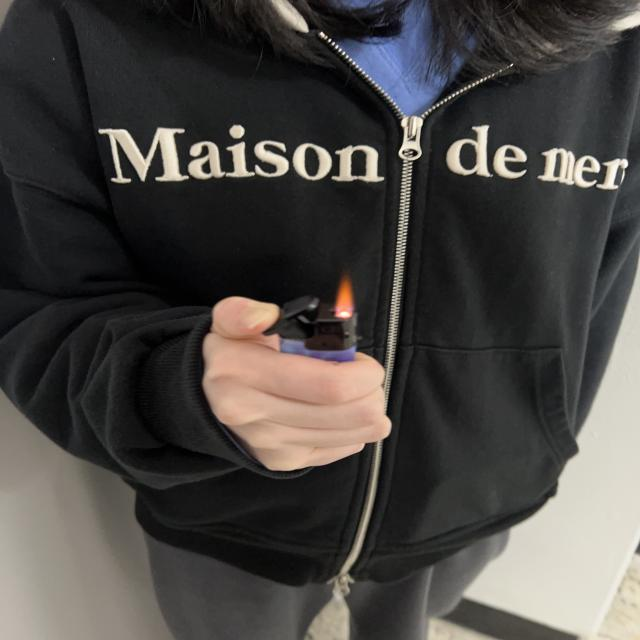fire: (329, 275, 361, 320)
